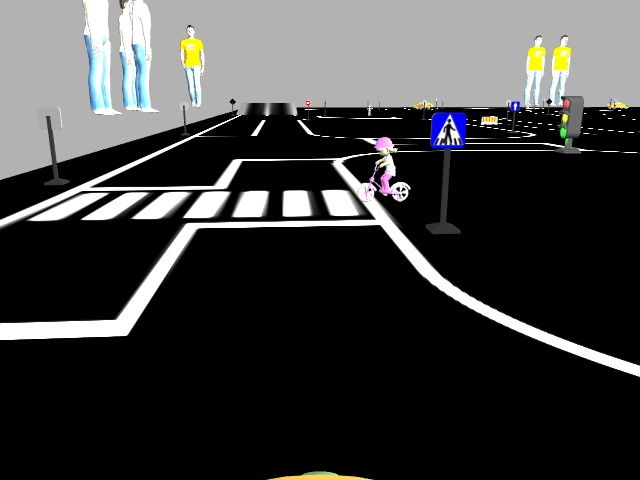Crosswalk: (428, 109, 466, 150)
Pedestrian: (353, 137, 413, 203)
TrafficLight: (558, 95, 585, 140)
